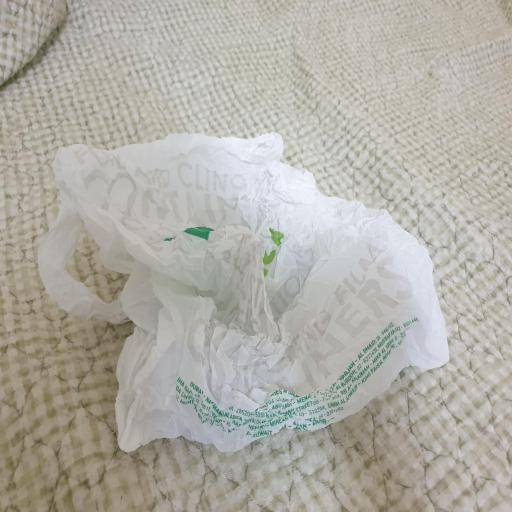plastic bag: (34, 126, 452, 457)
